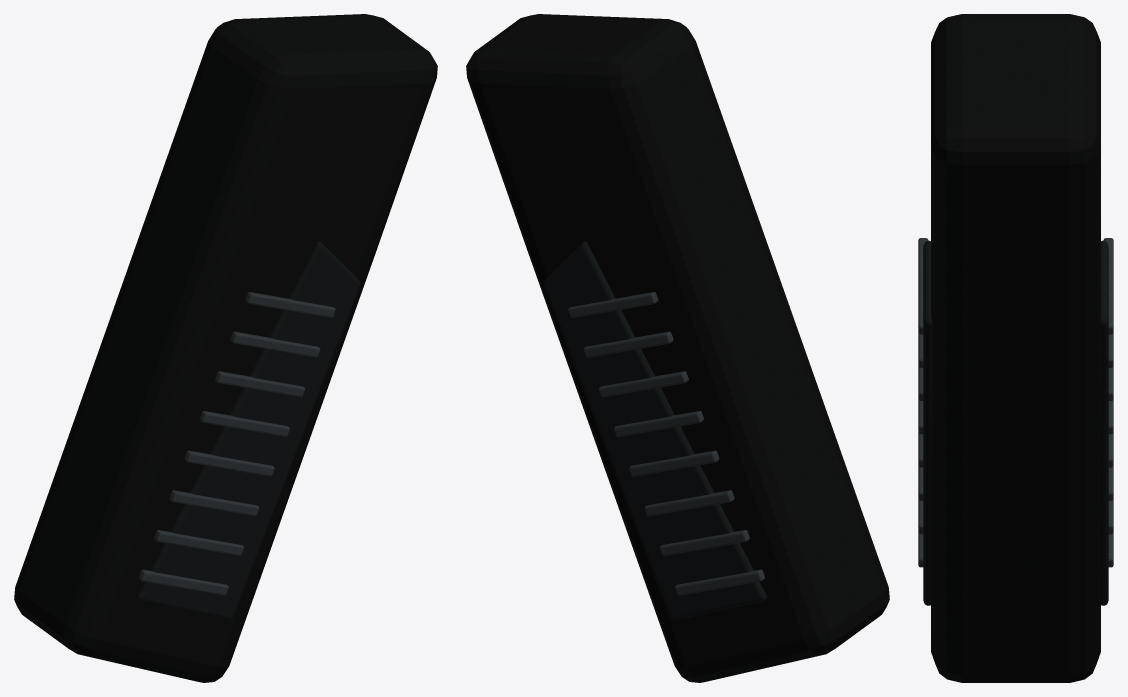
File: kite01.grip.glb
3 views of the same model, side by side, from view 1: azimuth 30°, elevation 25°; view 2: azimuth 150°, elevation 25°; view 3: azimuth 270°, elevation 25° (orthographic). The views are drawn at different scales.
Parts seen in each view (by area): view 1: VIS_kite01_grip; view 2: VIS_kite01_grip; view 3: VIS_kite01_grip.
Part boxes in pixels (x1,y1,x2,y2): VIS_kite01_grip: (14,14,437,682); VIS_kite01_grip: (466,14,889,682); VIS_kite01_grip: (918,14,1113,682).
Size of the model in its own units: 0.0973 by 0.1519 by 0.038.
3 materials, 3 textured.
